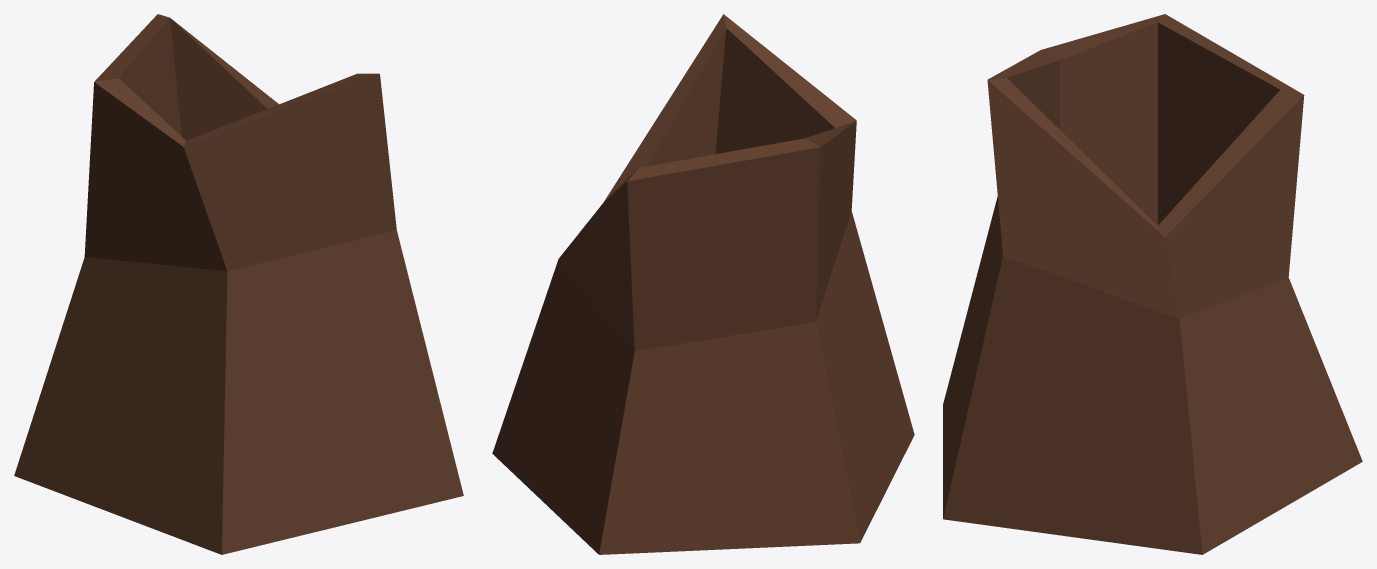
File: Trunk_02.glb
3 views of the same model, side by side, from view 1: azimuth 30°, elevation 25°; view 2: azimuth 150°, elevation 25°; view 3: azimuth 270°, elevation 25° (orthographic). The views are drawn at different scales.
Visible parts, largest first — view 1: Trunk_02; view 2: Trunk_02; view 3: Trunk_02.
Boxes of the visible parts, x1,y1,x2,y2 form: Trunk_02: (14,14,463,554); Trunk_02: (492,14,914,554); Trunk_02: (943,14,1362,554).
Size of the model in its own units: 1.27 by 1.31 by 1.21.
